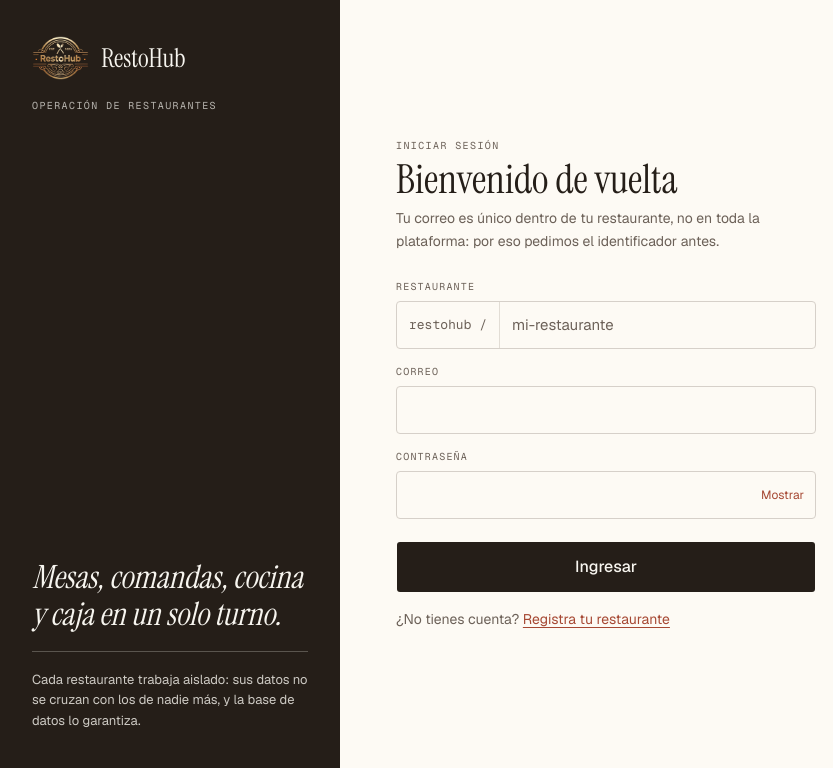
Test: formulario de login › si la validación local falla, no envía nada y conserva la contraseña
Type "mesero@pruebas.com" into the field labelled "Correo". click: point(606, 410)
box: left=396, top=386, right=816, bottom=434
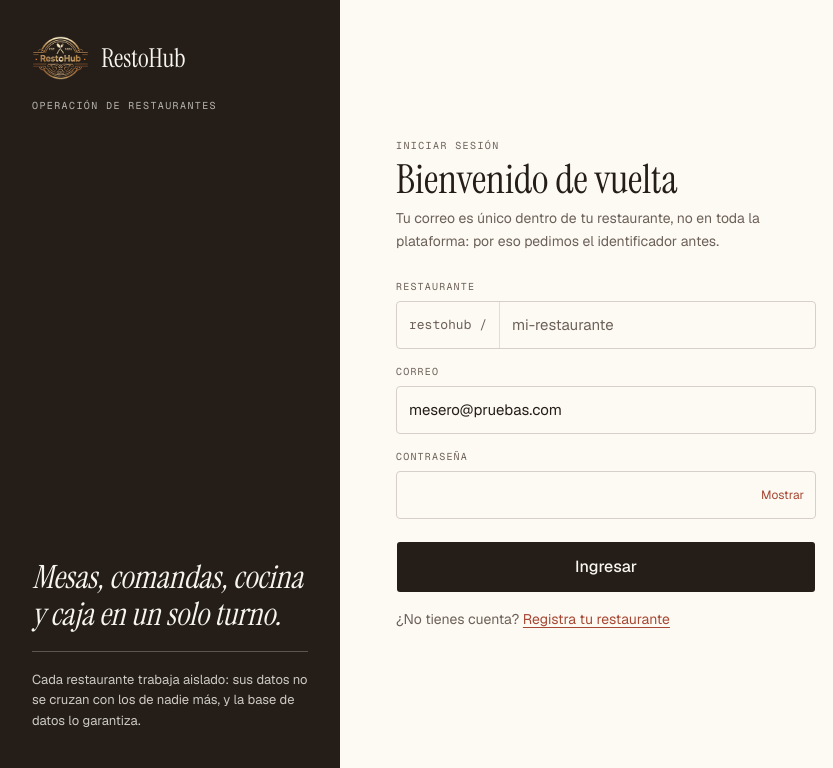
Type "una-contraseña-valida-2026" into the password field labelled "Contraseña". click: point(606, 495)
box: left=396, top=471, right=816, bottom=519
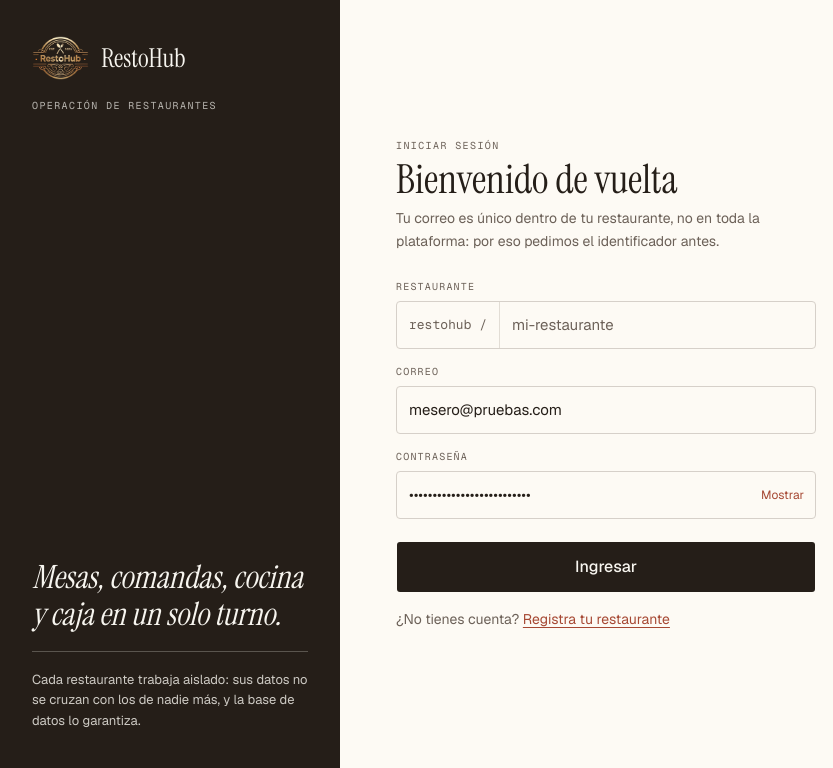
Click the button "Ingresar". click: point(606, 567)
box: left=396, top=541, right=816, bottom=593
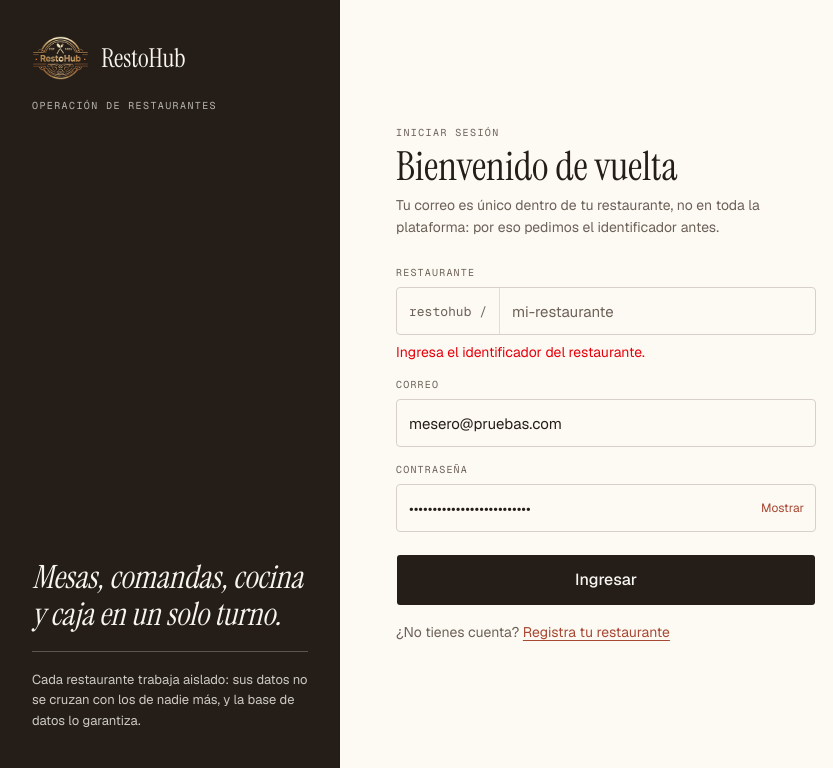
Now the text "Ingresa el identificador del restaurante." is shown, box left=396, top=343, right=645, bottom=361
